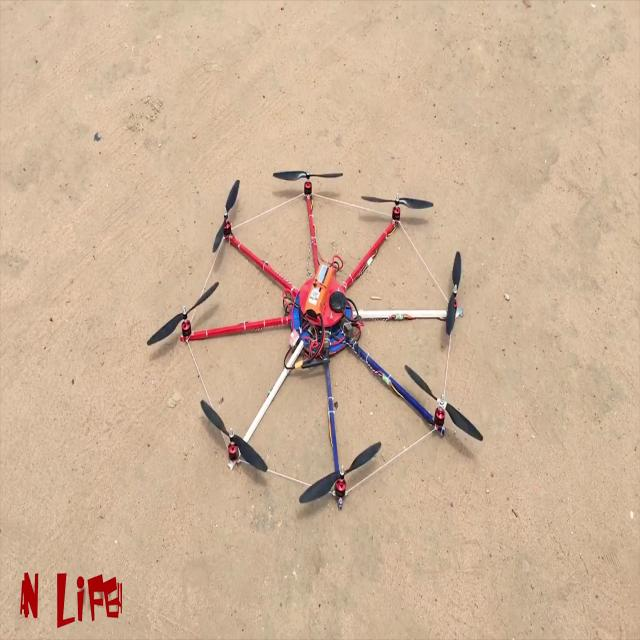drone: (169, 155, 485, 576)
